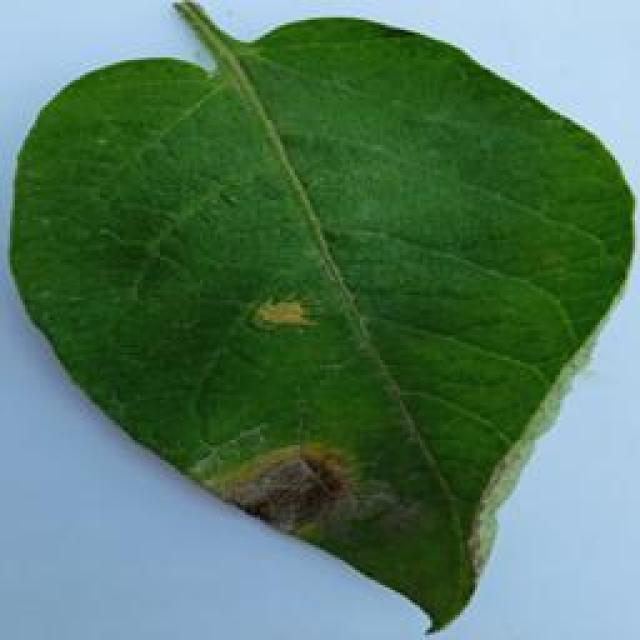Potato_Late_Blight: (12, 8, 624, 635)
